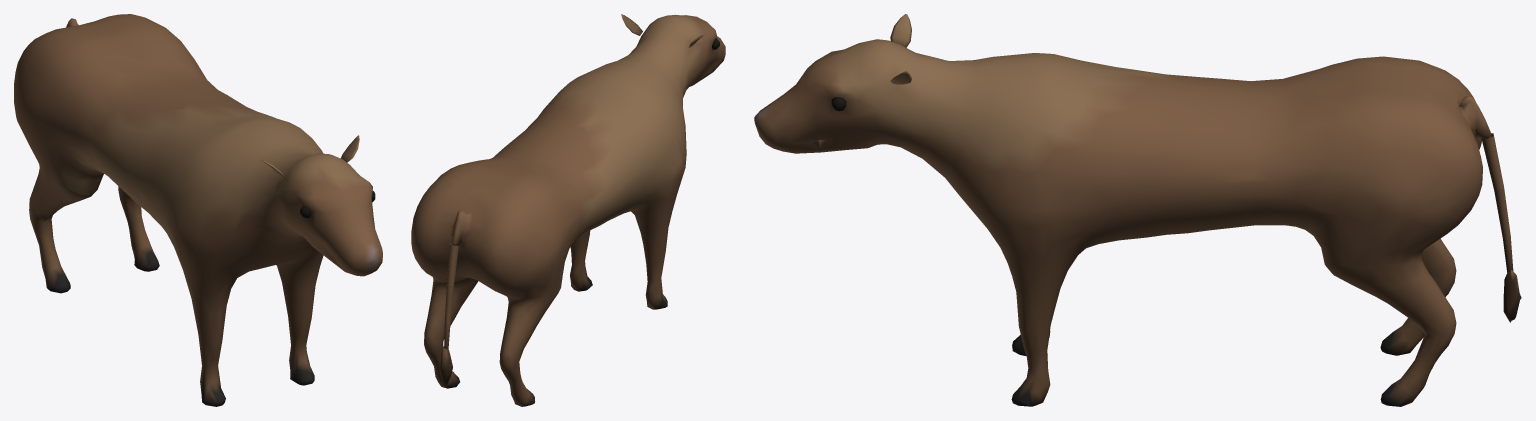
The model's file is kuh_braun.glb.
3 renders of one model, left to right at view 1: azimuth 30°, elevation 25°; view 2: azimuth 150°, elevation 25°; view 3: azimuth 270°, elevation 25°, orthographic. The views are drawn at different scales.
Parts seen in each view (by area): view 1: lack; view 2: lack; view 3: lack.
Part boxes in pixels (box(x1,y1,x2,y2)): lack: box(14, 14, 382, 406); lack: box(411, 14, 725, 406); lack: box(754, 14, 1521, 406).
Bounding box in the file's own units: 0.903 × 1.53 × 3.17.
